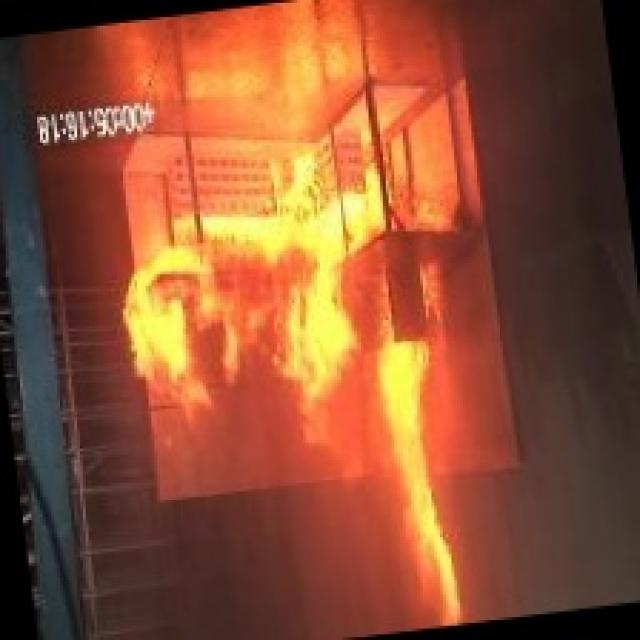fire: (87, 100, 544, 640)
